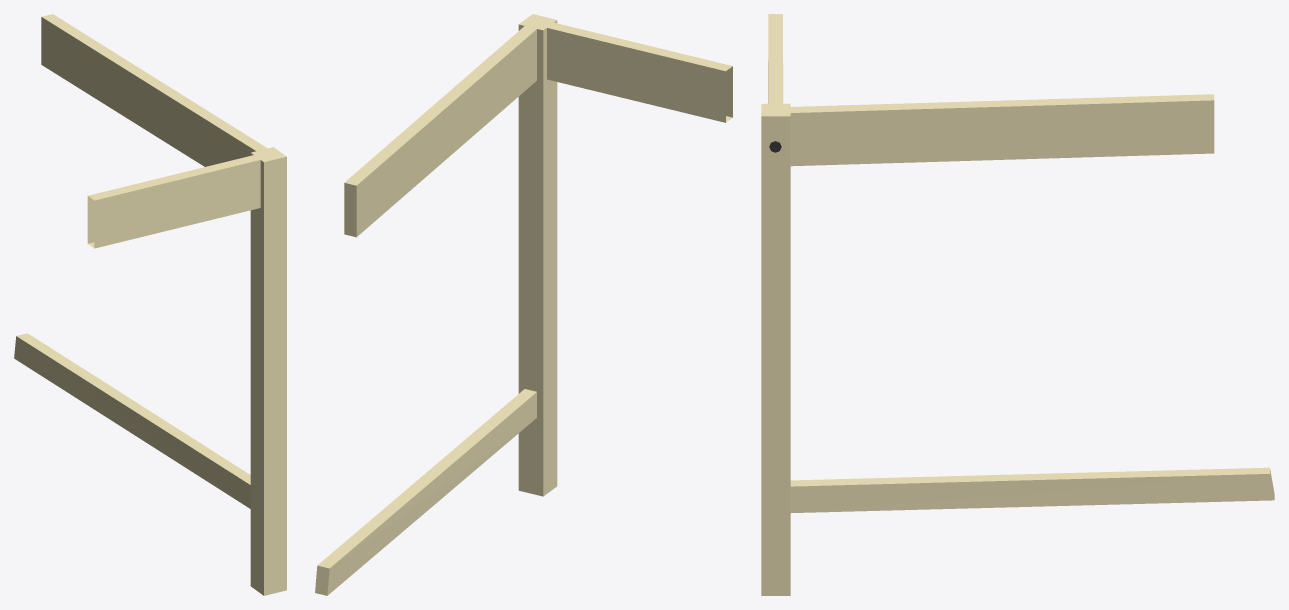
The model's file is leg2.obj.
3 renders of one model, left to right at view 1: azimuth 30°, elevation 25°; view 2: azimuth 150°, elevation 25°; view 3: azimuth 270°, elevation 25°, orthographic. The views are drawn at different scales.
Parts seen in each view (by area): view 1: leg2; view 2: leg2; view 3: leg2.
Part boxes in pixels (x1=…): leg2: x1=14, y1=14, x2=286, y2=595; leg2: x1=315, y1=14, x2=732, y2=595; leg2: x1=761, y1=14, x2=1274, y2=595.
Bounding box in the file's own units: 8.32 × 18.06 × 17.51.
